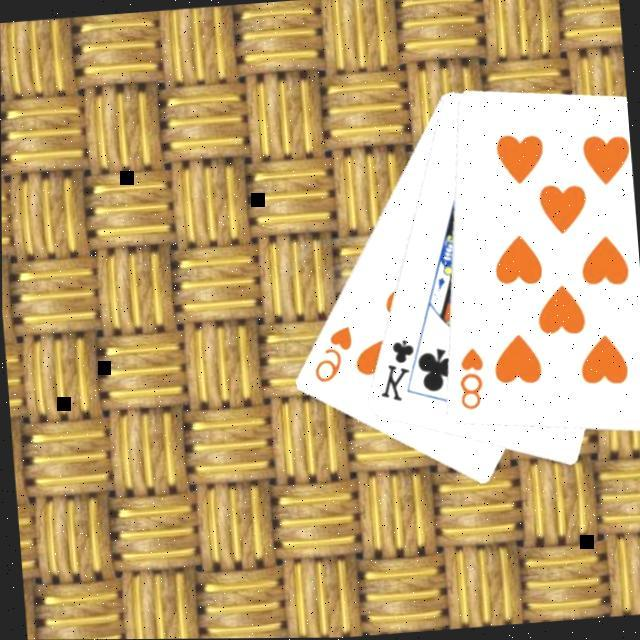8H: (452, 342, 489, 412)
9H: (306, 320, 357, 385)
KC: (372, 332, 429, 404)
